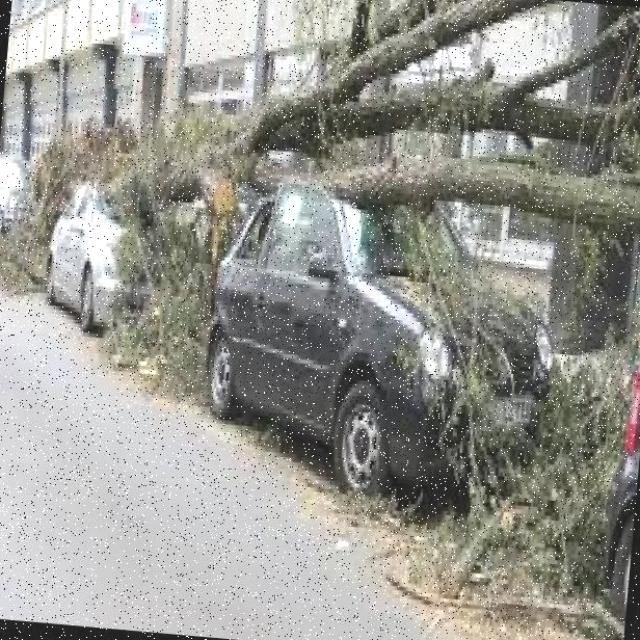fallen_object: (6, 0, 640, 314)
